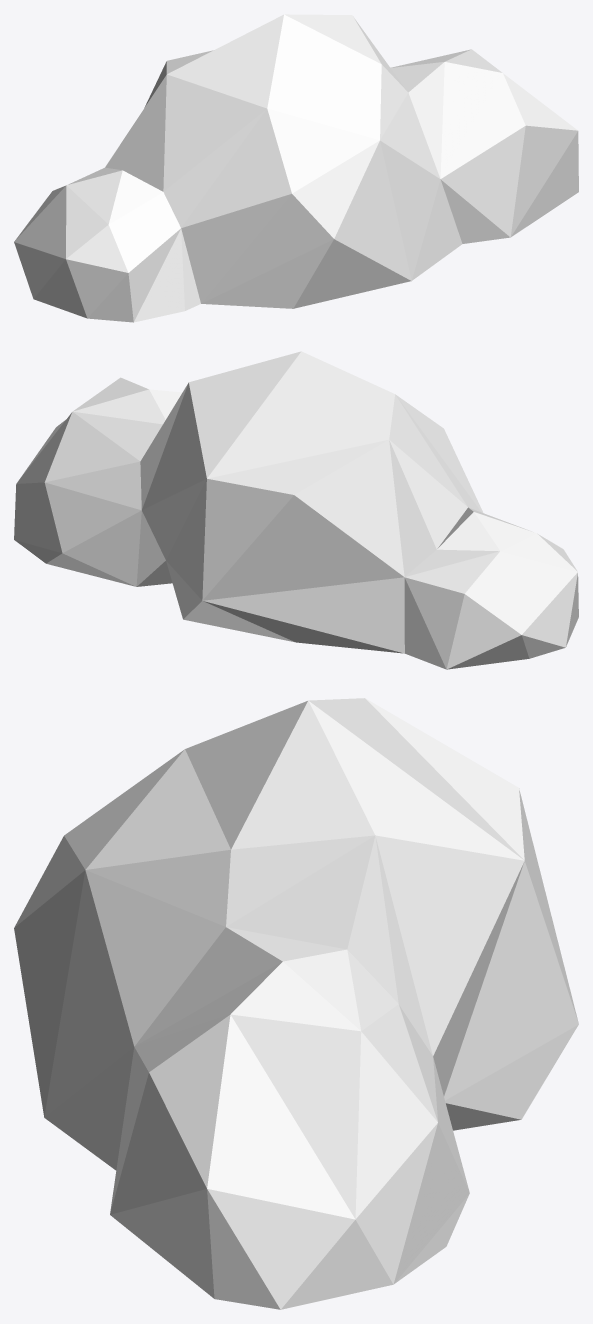
The model's file is cloud_01.FBX.
3 renders of one model, top to bottom at view 1: azimuth 30°, elevation 25°; view 2: azimuth 150°, elevation 25°; view 3: azimuth 270°, elevation 25°, orthographic. The views are drawn at different scales.
Visible parts, largest first — view 1: cloud_01; view 2: cloud_01; view 3: cloud_01.
Part boxes in pixels (bbox=[...]): cloud_01: bbox=[14, 14, 578, 322]; cloud_01: bbox=[14, 351, 578, 669]; cloud_01: bbox=[14, 698, 578, 1309].
Bounding box in the file's own units: 141 × 56.5 × 76.52.
Materials: 1 (1 with a texture image).
